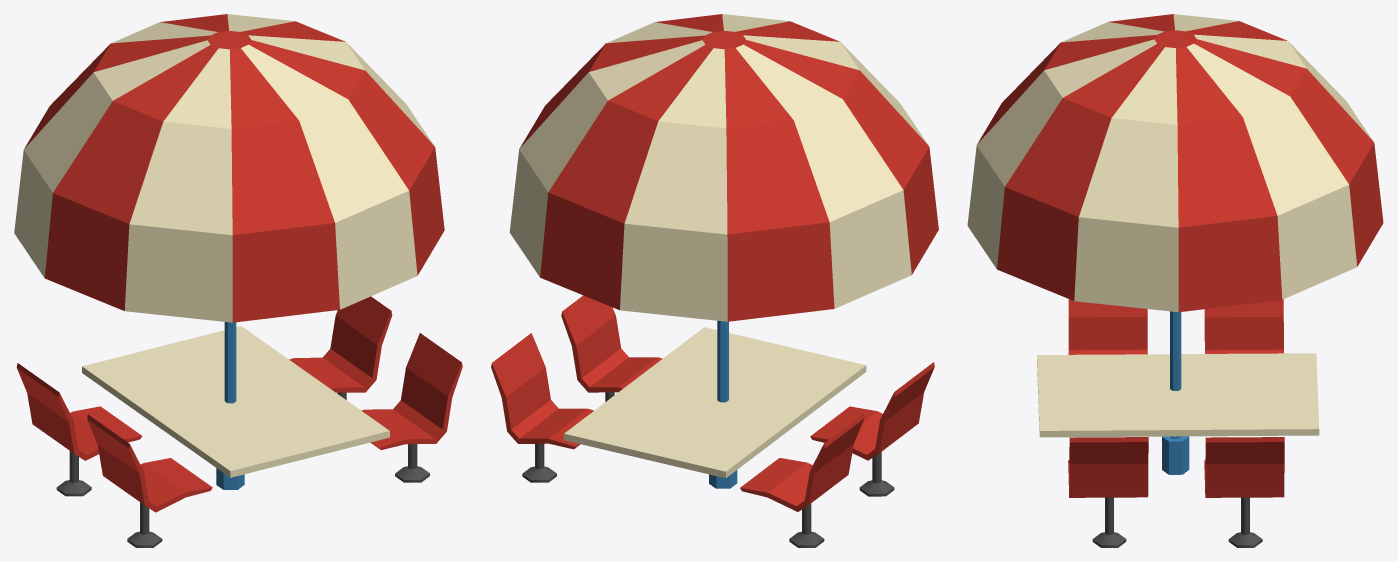
The model's file is canzhuo.fbx.
3 renders of one model, left to right at view 1: azimuth 30°, elevation 25°; view 2: azimuth 150°, elevation 25°; view 3: azimuth 270°, elevation 25°, orthographic. The views are drawn at different scales.
Visible parts, largest first — view 1: canzhuo; view 2: canzhuo; view 3: canzhuo.
Part boxes in pixels (x1,y1,x2,y2): canzhuo: (14, 14, 462, 547); canzhuo: (491, 14, 938, 547); canzhuo: (967, 14, 1383, 547).
Bounding box in the file's own units: 1.77 × 2.03 × 1.77.
